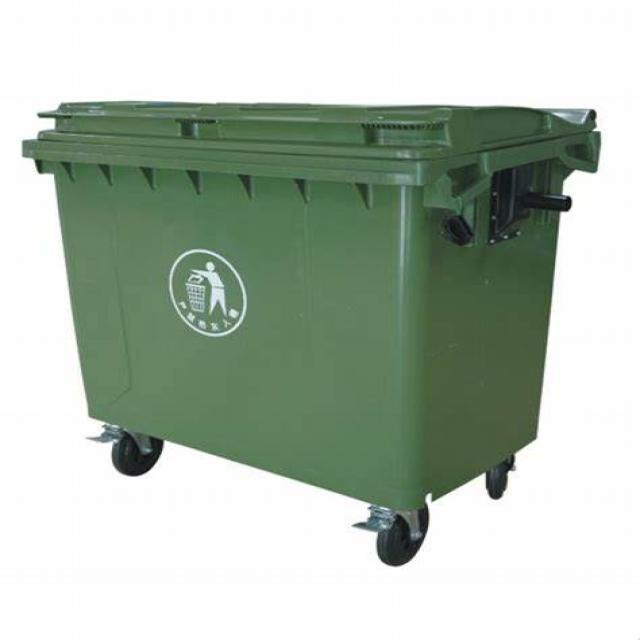garbage container: (1, 54, 635, 580)
